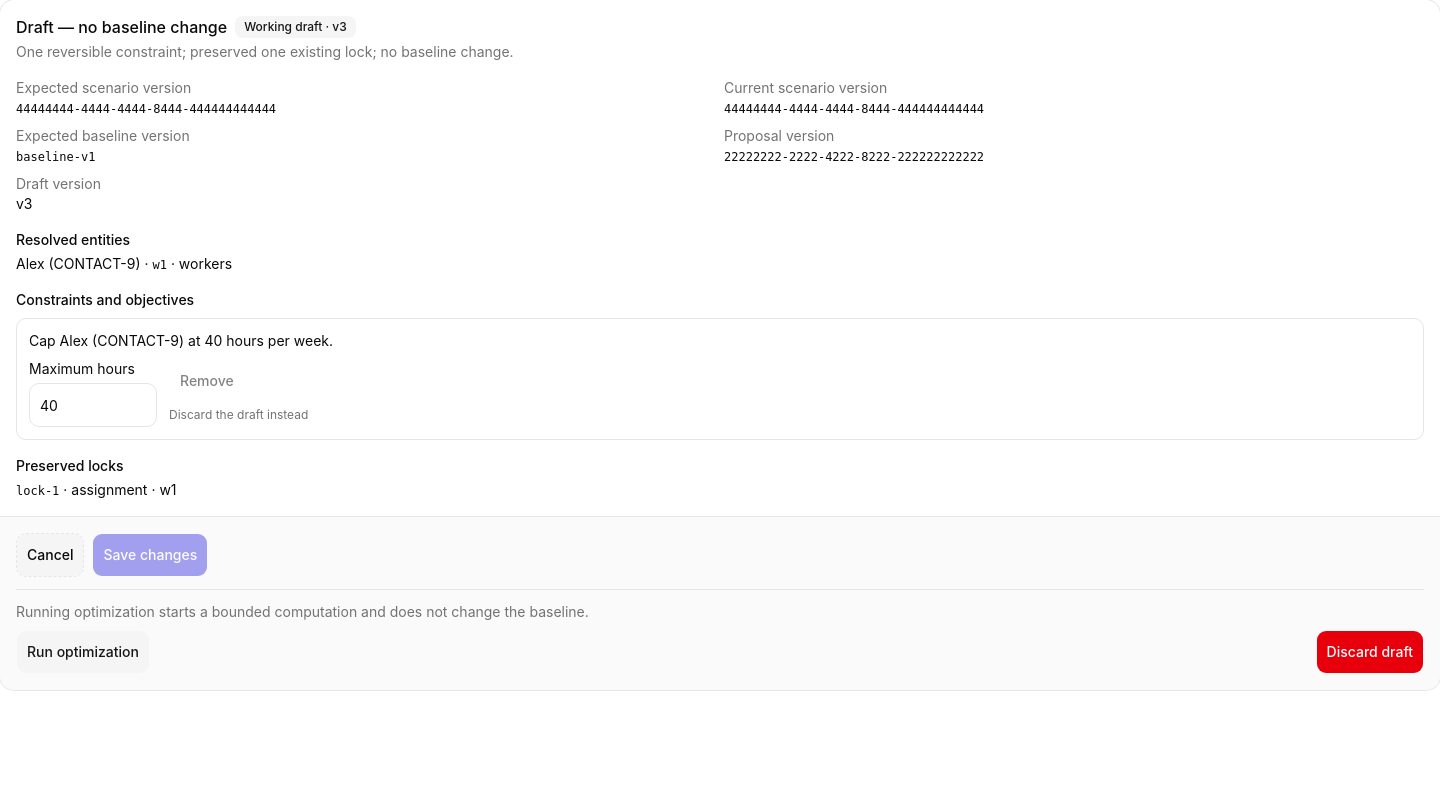
it: DraftCard — the working draft › Save changes and Cancel › announces 'Saved as vN' in a polite live region and clears the edits
Replace the text in the number field labelled "Maximum hours" with "36" at [93, 405], box top-left (29, 383), bottom-right (157, 427)
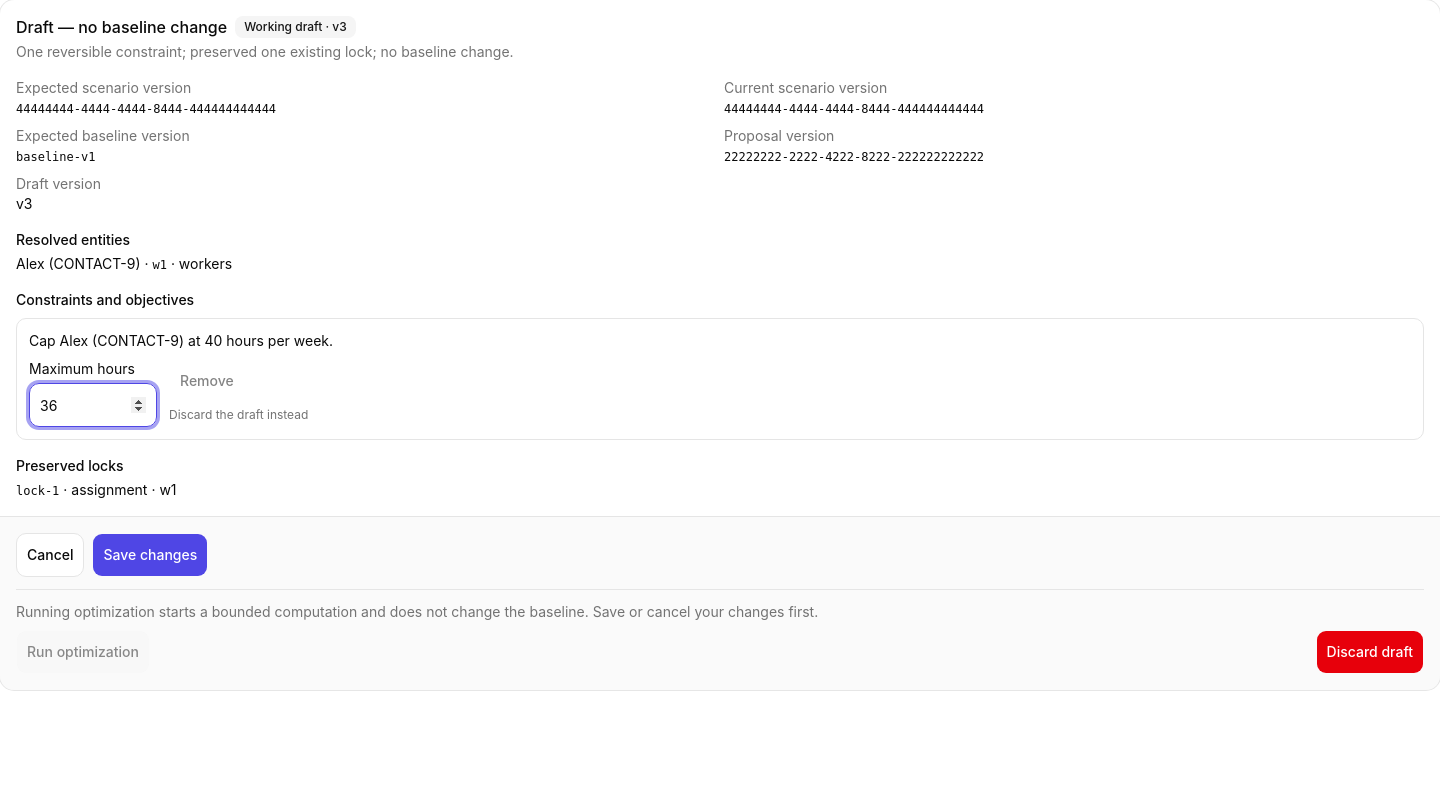
Click the button "Save changes".
click(150, 555)  # box top-left (92, 533), bottom-right (208, 577)
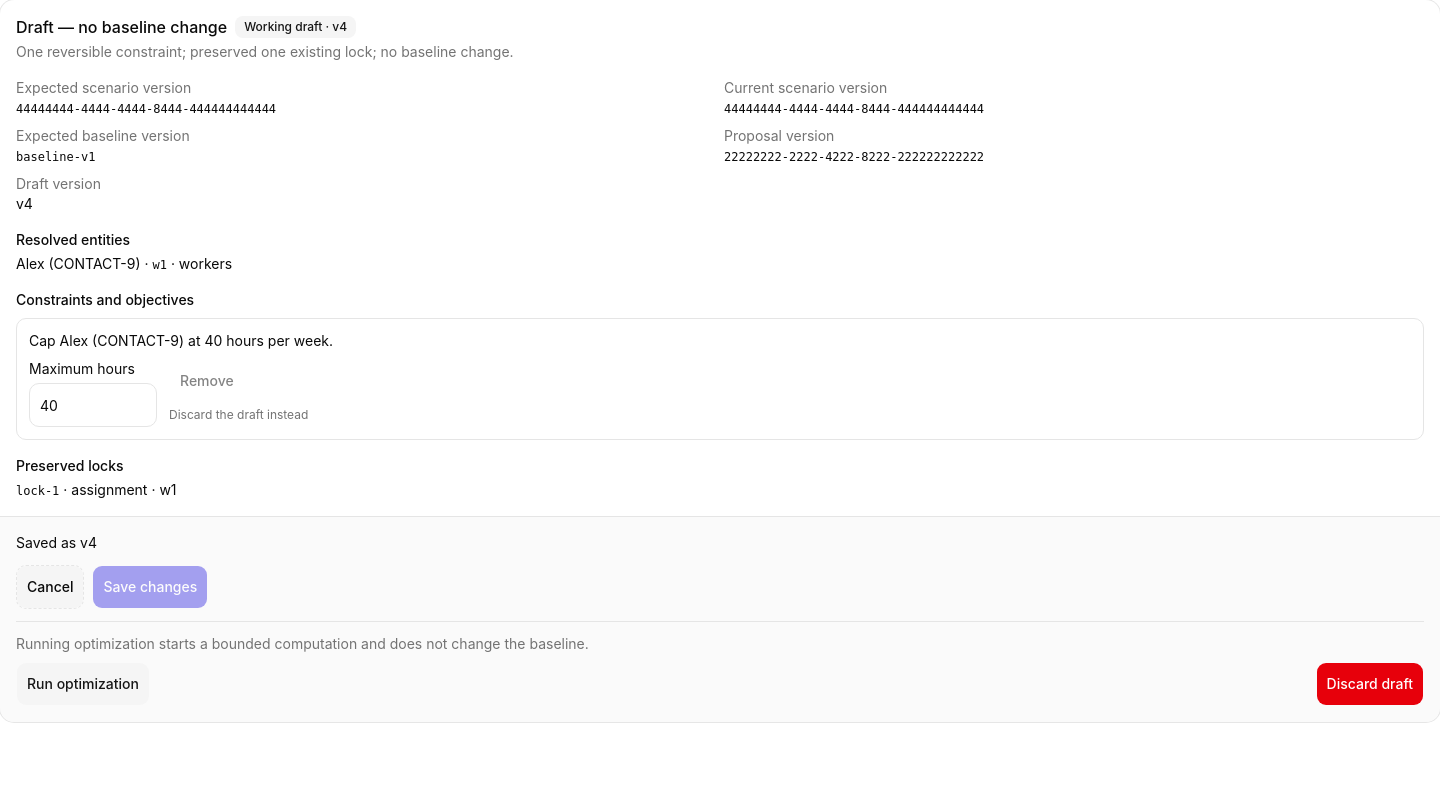
Expected: the button "Save changes" is disabled, top-left (92, 565), bottom-right (208, 609)
Expected: the button "Cancel" is disabled, top-left (16, 565), bottom-right (84, 609)
